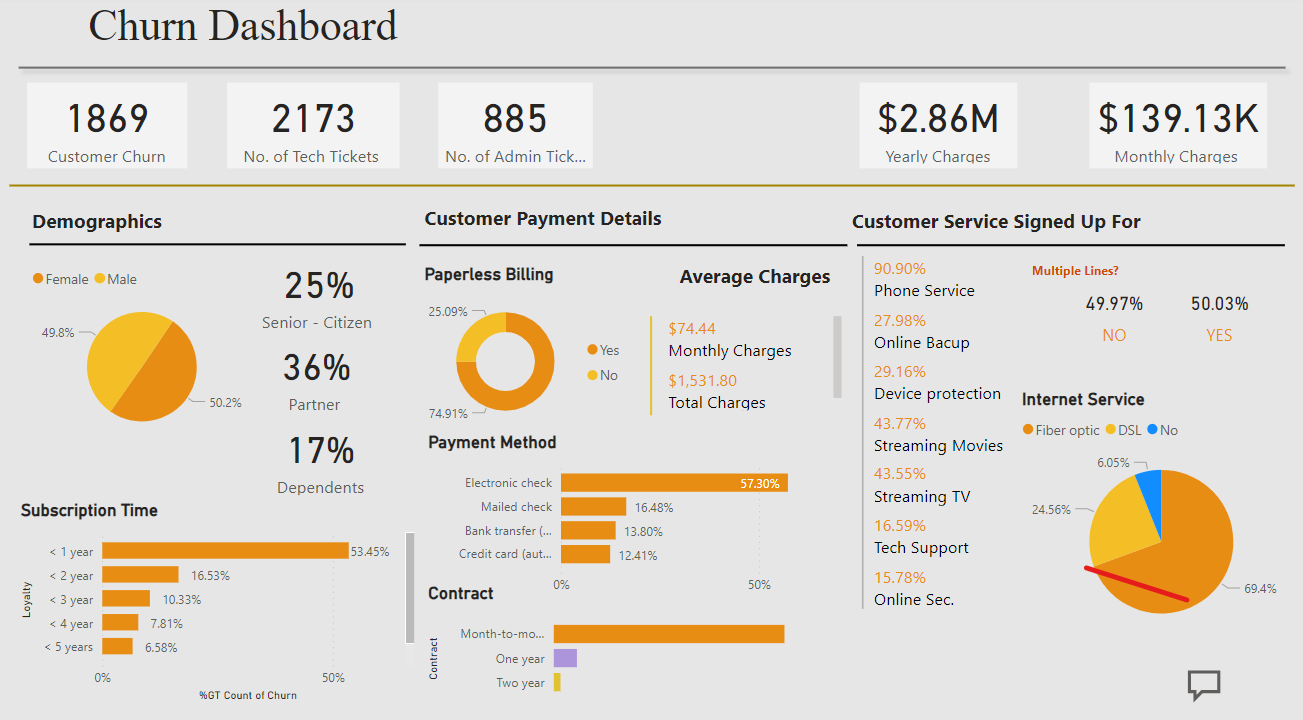

The dashboard page shown, as its layout file describes it:
{"tool":"powerbi","page":{"name":"Churn  Report ","canvas":[1280,720],"ordinal":0},"visuals":[{"type":"textbox","box":[84.3,0,1157.6,64.8],"z":0},{"type":"shape","box":[12.2,56.2,1256.6,29.3],"z":1},{"type":"card","fields":{"Values":["CountNonNull(01 Churn-Dataset.customerID)"]},"box":[29.3,85.6,156.5,84.3],"z":2},{"type":"card","fields":{"Values":["Sum(01 Churn-Dataset.numAdminTickets)"]},"box":[431.5,85.6,151.6,84.3],"z":3},{"type":"card","fields":{"Values":["Sum(01 Churn-Dataset.numTechTickets)"]},"box":[224.9,85.6,168.7,84.3],"z":4},{"type":"card","fields":{"Values":["Sum(01 Churn-Dataset.TotalCharges)"]},"box":[843.5,85.6,154,84.3],"z":5},{"type":"card","fields":{"Values":["Sum(01 Churn-Dataset.MonthlyCharges)"]},"box":[1068.4,85.6,173.6,84.3],"z":6},{"type":"shape","box":[12.2,169.9,1256.6,33],"z":7},{"type":"pieChart","fields":{"Category":["01 Churn-Dataset.gender"],"Y":["CountNonNull(01 Churn-Dataset.gender)"]},"box":[29.5,257,225.1,184.5],"z":11},{"type":"card","fields":{"Values":["churn.SeniorCitizen in %"]},"box":[234.9,250.9,161.1,79.9],"z":12},{"type":"card","fields":{"Values":["churn.Partner in %"]},"box":[232.4,330.8,161.1,79.9],"z":13},{"type":"card","fields":{"Values":["churn.Dependents in %"]},"box":[236.1,410.8,161.1,83.6],"z":14},{"type":"clusteredBarChart","title":"Subscription Time","fields":{"Category":["churn.Loyalty "],"Y":["CountNonNull(churn.Churn)"]},"box":[18.4,494.4,394.8,201.7],"z":15},{"type":"textbox","box":[29.5,202.9,300.1,38.1],"z":16},{"type":"shape","box":[32,231.2,367.7,25.8],"z":17},{"type":"textbox","box":[413.2,200.5,269.3,40.6],"z":18},{"type":"shape","box":[413.2,234.9,418.1,19.7],"z":19},{"type":"donutChart","title":"Paperless Billing","fields":{"Y":["CountNonNull(churn.Churn)"],"Category":["churn.PaperlessBilling"]},"box":[413.2,263.2,209.1,172.2],"z":20},{"type":"textbox","box":[662.9,257,180.8,36.9],"z":21},{"type":"shape","box":[505.5,313.6,269.3,97.2],"z":22},{"type":"multiRowCard","fields":{"Values":["churn.MonthlyCharges","churn.TotalCharges"]},"box":[651.8,308.7,179.6,102.1],"z":23},{"type":"clusteredBarChart","title":"Payment Method","fields":{"Category":["churn.PaymentMethod"],"Y":["CountNonNull(churn.Churn)"]},"box":[416.9,426.7,414.5,168.5],"z":24},{"type":"barChart","title":"Contract","fields":{"Category":["churn.Contract"],"Y":["CountNonNull(churn.Churn)"]},"box":[416.9,574.3,387.4,121.8],"z":25},{"type":"textbox","box":[831.4,202.9,437.8,38.1],"z":26},{"type":"shape","box":[841.2,234.9,418.1,19.7],"z":27},{"type":"multiRowCard","fields":{"Values":["churn.Phone Service in %","churn.Online Bacup in %","churn.Device protection in %","churn.Streaming Movies in %","churn.Streaming TV in %","churn.Tech Support in %","churn.Online Sec. in %"]},"box":[841.2,250.9,166,445.2],"z":28},{"type":"textbox","box":[1007.2,254.6,252.1,36.9],"z":29},{"type":"card","fields":{"Values":["churn.Multiple lines no in %"]},"box":[1052.7,282.9,81.2,61.5],"z":30},{"type":"card","fields":{"Values":["churn.Multiple Lines yes in %"]},"box":[1154.8,282.9,81.2,61.5],"z":31},{"type":"pieChart","title":"Internet Service ","fields":{"Category":["churn.InternetService"],"Y":["CountNonNull(churn.Churn)"]},"box":[997.4,384.9,282.9,250.9],"z":32},{"type":"actionButton","box":[1159.7,655.5,99.6,40.6],"z":33}]}

Visuals, with their boxes in screenshot pixels (x1, y1, x2, y2), scaled from the page's 1280x720 canvas onto the 1303x720 screenshot:
textbox: x1=86, y1=0, x2=1264, y2=65
shape: x1=12, y1=56, x2=1292, y2=86
card - CountNonNull(01 Churn-Dataset.customerID): x1=30, y1=86, x2=189, y2=170
card - Sum(01 Churn-Dataset.numAdminTickets): x1=439, y1=86, x2=594, y2=170
card - Sum(01 Churn-Dataset.numTechTickets): x1=229, y1=86, x2=401, y2=170
card - Sum(01 Churn-Dataset.TotalCharges): x1=859, y1=86, x2=1015, y2=170
card - Sum(01 Churn-Dataset.MonthlyCharges): x1=1088, y1=86, x2=1264, y2=170
shape: x1=12, y1=170, x2=1292, y2=203
pieChart - 01 Churn-Dataset.gender x CountNonNull(01 Churn-Dataset.gender): x1=30, y1=257, x2=259, y2=442
card - churn.SeniorCitizen in %: x1=239, y1=251, x2=403, y2=331
card - churn.Partner in %: x1=237, y1=331, x2=401, y2=411
card - churn.Dependents in %: x1=240, y1=411, x2=404, y2=494
"Subscription Time" clusteredBarChart: x1=19, y1=494, x2=421, y2=696
textbox: x1=30, y1=203, x2=336, y2=241
shape: x1=33, y1=231, x2=407, y2=257
textbox: x1=421, y1=200, x2=695, y2=241
shape: x1=421, y1=235, x2=846, y2=255
"Paperless Billing" donutChart: x1=421, y1=263, x2=633, y2=435
textbox: x1=675, y1=257, x2=859, y2=294
shape: x1=515, y1=314, x2=789, y2=411
multiRowCard - churn.MonthlyCharges x churn.TotalCharges: x1=664, y1=309, x2=846, y2=411
"Payment Method" clusteredBarChart: x1=424, y1=427, x2=846, y2=595
"Contract" barChart: x1=424, y1=574, x2=819, y2=696
textbox: x1=846, y1=203, x2=1292, y2=241
shape: x1=856, y1=235, x2=1282, y2=255
multiRowCard - churn.Phone Service in % x churn.Online Bacup in %: x1=856, y1=251, x2=1025, y2=696
textbox: x1=1025, y1=255, x2=1282, y2=292
card - churn.Multiple lines no in %: x1=1072, y1=283, x2=1154, y2=344
card - churn.Multiple Lines yes in %: x1=1176, y1=283, x2=1258, y2=344
"Internet Service " pieChart: x1=1015, y1=385, x2=1302, y2=636
actionButton: x1=1181, y1=656, x2=1282, y2=696
